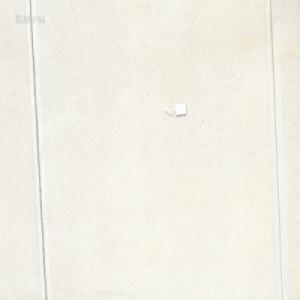LuggageTag: (163, 102, 186, 118)
